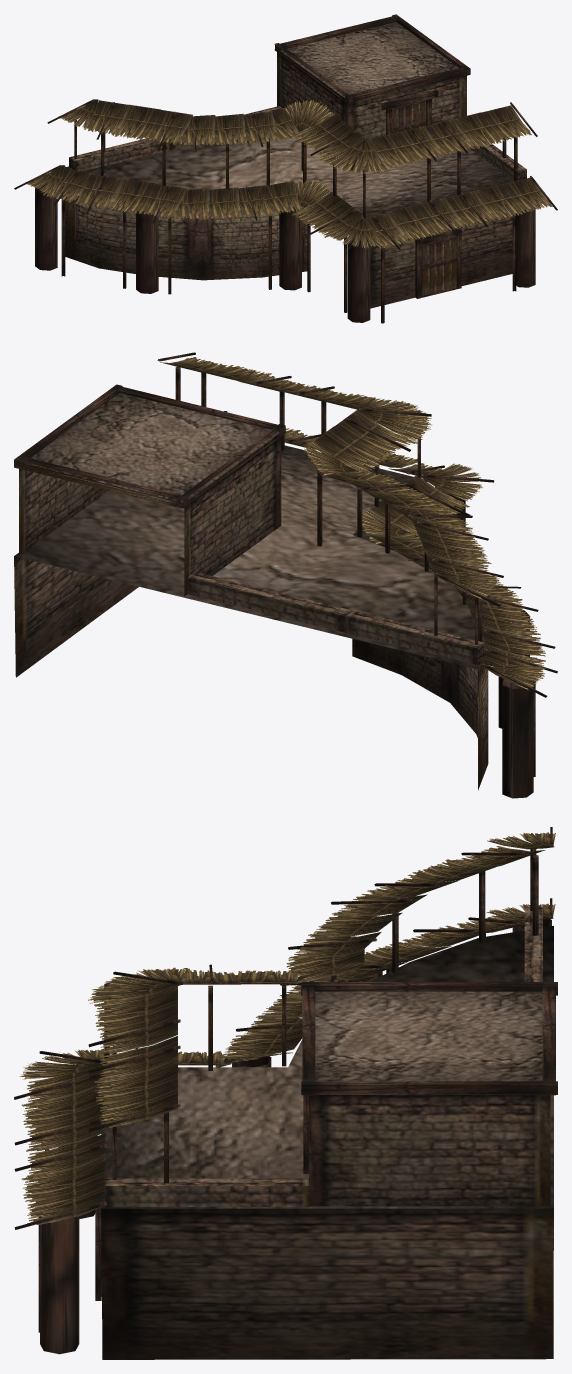
3 views of the same model, one above another, from view 1: azimuth 30°, elevation 25°; view 2: azimuth 150°, elevation 25°; view 3: azimuth 270°, elevation 25° (orthographic). The views are drawn at different scales.
Parts seen in each view (by area): view 1: wj30; view 2: wj30; view 3: wj30.
Part boxes in pixels (x1,y1,x2,y2): wj30: (14, 14, 557, 323); wj30: (14, 352, 557, 798); wj30: (14, 827, 557, 1359).
Size of the model in its own units: 1116 by 440 by 782.
